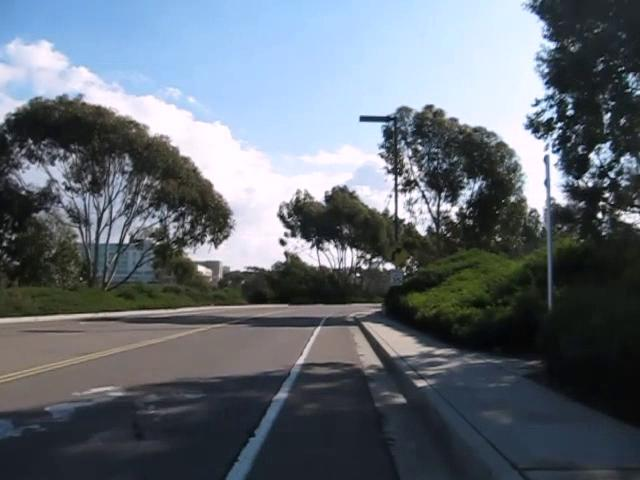speedLimit35: (389, 269, 404, 286)
